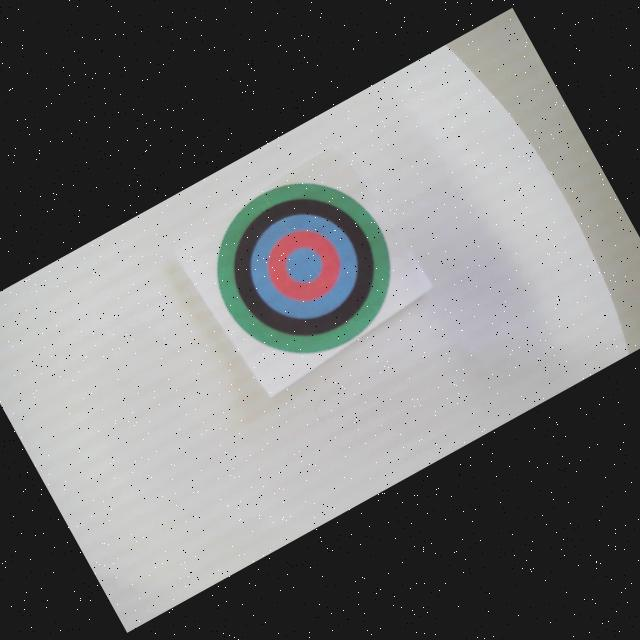COGNITIVE: (188, 151, 424, 388)
